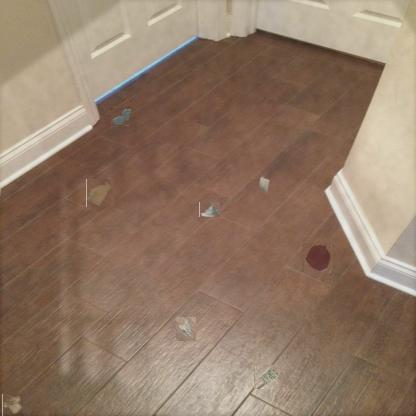dirty: (86, 179, 113, 207), (254, 366, 278, 390), (176, 317, 196, 341), (2, 394, 23, 416), (199, 201, 220, 217), (257, 175, 271, 195)
liquid: (303, 244, 331, 272), (112, 107, 130, 126)
